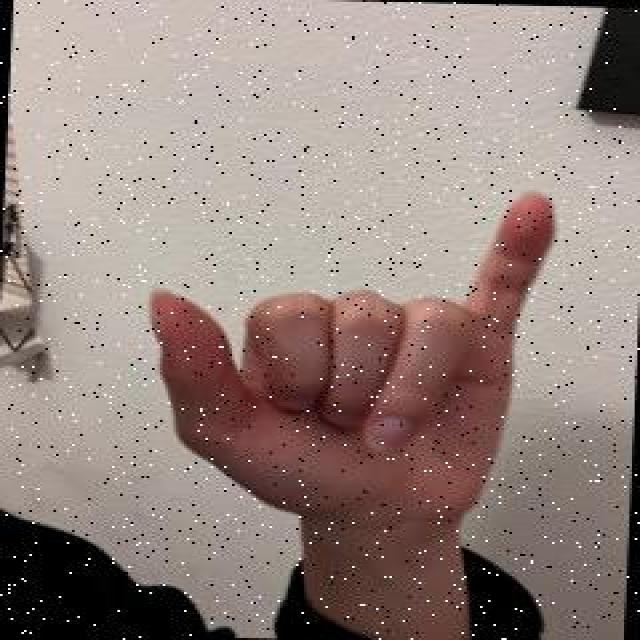Y: (134, 176, 566, 530)
